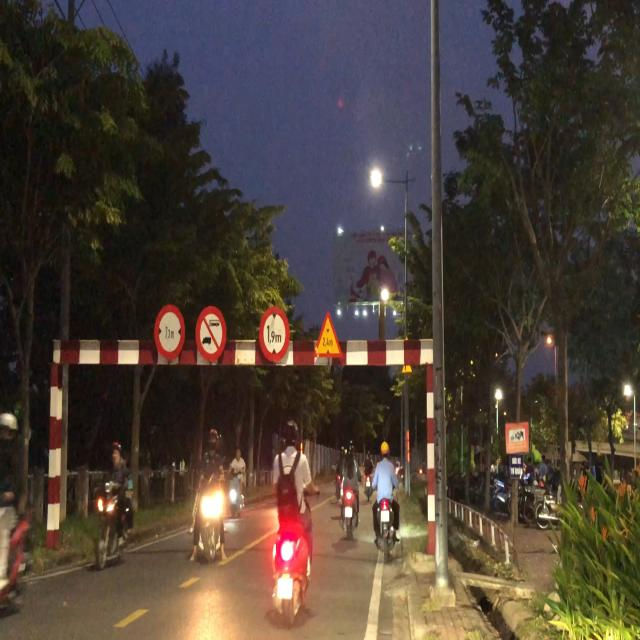Bien bao cam xe oto khach va xe oto tai: (192, 299, 227, 363)
Bien bao chieu cao tinh khong thuc te: (312, 307, 345, 360)
Bien bao han che chieu cao: (258, 298, 291, 364)
